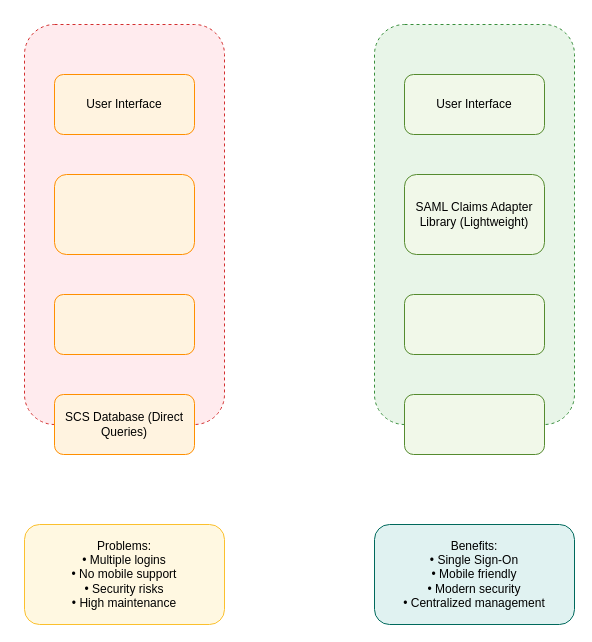
The diagram is 592 pixels wide and 642 high, and some of its shapes have lost their labels. Each missing label, with the centre of its shape:
"Centralized Connection Pool (On Demand)" goes at pixel 474 324.
"Direct Database Connection (Always On)" goes at pixel 124 324.
"Identity Provider (Claims Based)" goes at pixel 474 424.
"OMRDD Helper Class Library (47K lines code)" goes at pixel 124 214.
